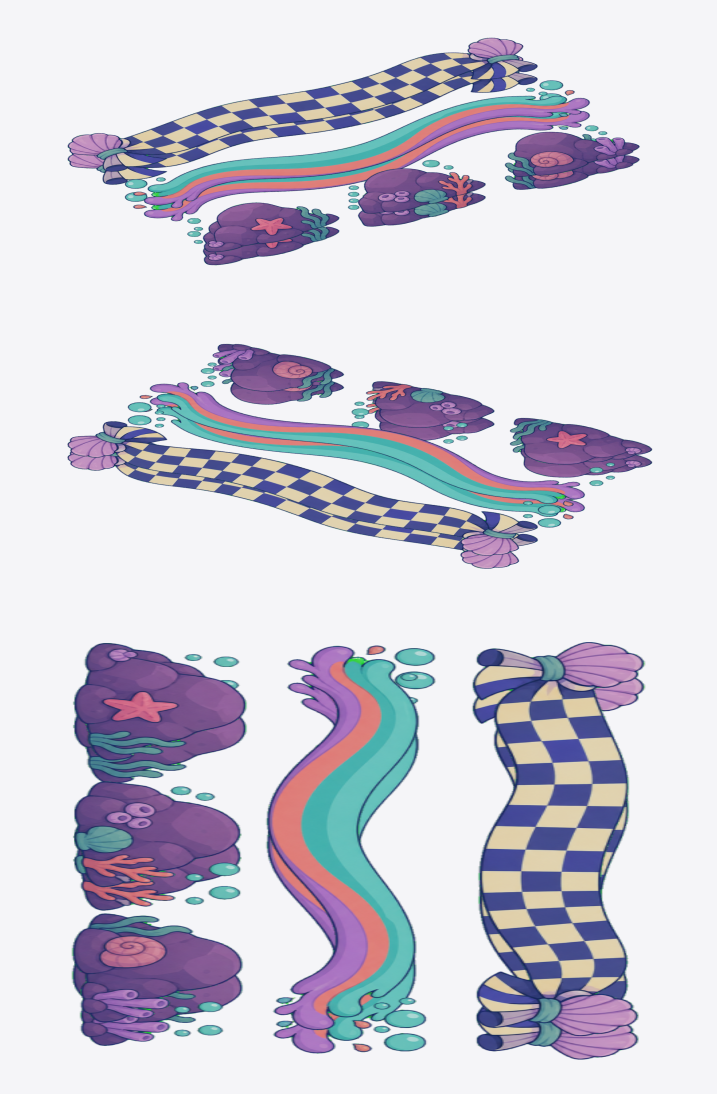
Rendered from 021_kart_motif_sheet.glb.
3 views of the same model, one above another, from view 1: azimuth 30°, elevation 25°; view 2: azimuth 150°, elevation 25°; view 3: azimuth 270°, elevation 25° (orthographic). The views are drawn at different scales.
Parts seen in each view (by area): view 1: 021_kart_motif_sheet; view 2: 021_kart_motif_sheet; view 3: 021_kart_motif_sheet.
Part boxes in pixels (bbox=[...]): 021_kart_motif_sheet: bbox=[67, 37, 639, 265]; 021_kart_motif_sheet: bbox=[67, 344, 651, 568]; 021_kart_motif_sheet: bbox=[72, 642, 644, 1059].
Size of the model in its own units: 2 by 0.05 by 1.33.
Materials: 1 (1 with a texture image).
